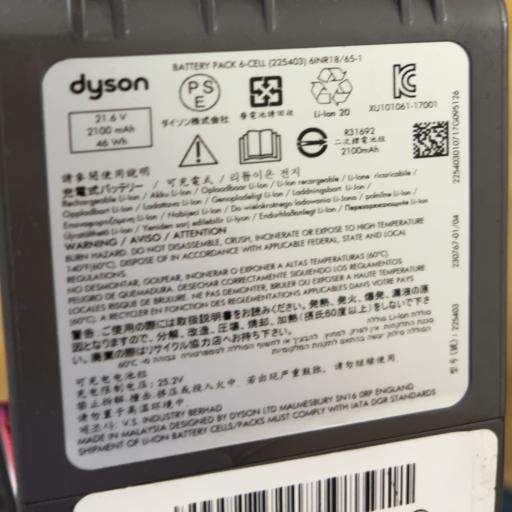paper: (10, 42, 509, 477)
